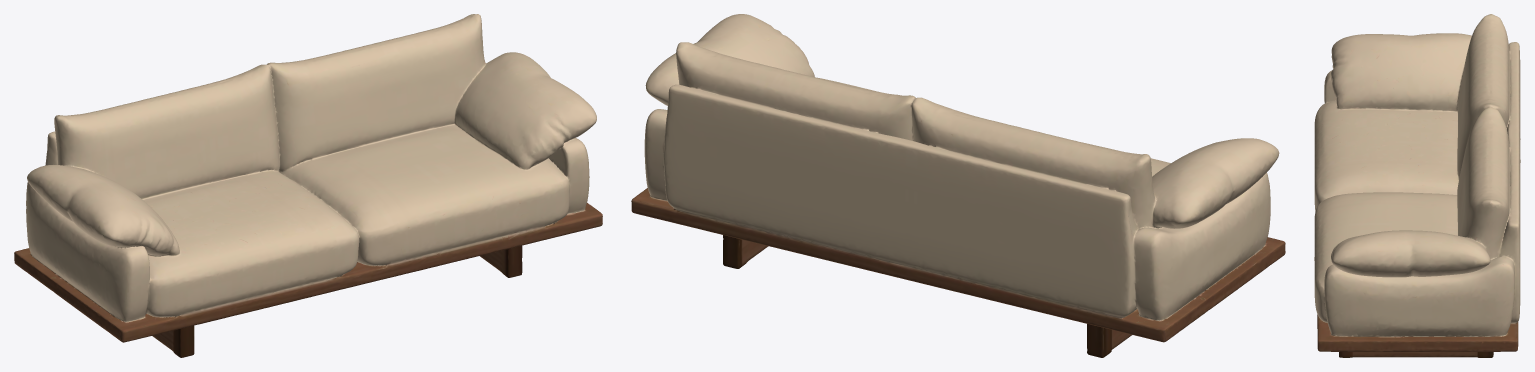
The model's file is Contemporary Cream Fabric Two-Seater Sofa with Wooden Platform Base [H-Kkut].glb.
3 views of the same model, side by side, from view 1: azimuth 30°, elevation 25°; view 2: azimuth 150°, elevation 25°; view 3: azimuth 270°, elevation 25° (orthographic). The views are drawn at different scales.
Visible parts, largest first — view 1: world; view 2: world; view 3: world.
Boxes of the visible parts, x1,y1,x2,y2 form: world: (14,14,602,357); world: (631,14,1285,357); world: (1314,14,1520,357).
Bounding box in the file's own units: 1 × 0.3717 × 0.3944.
Materials: 1 (1 with a texture image).
